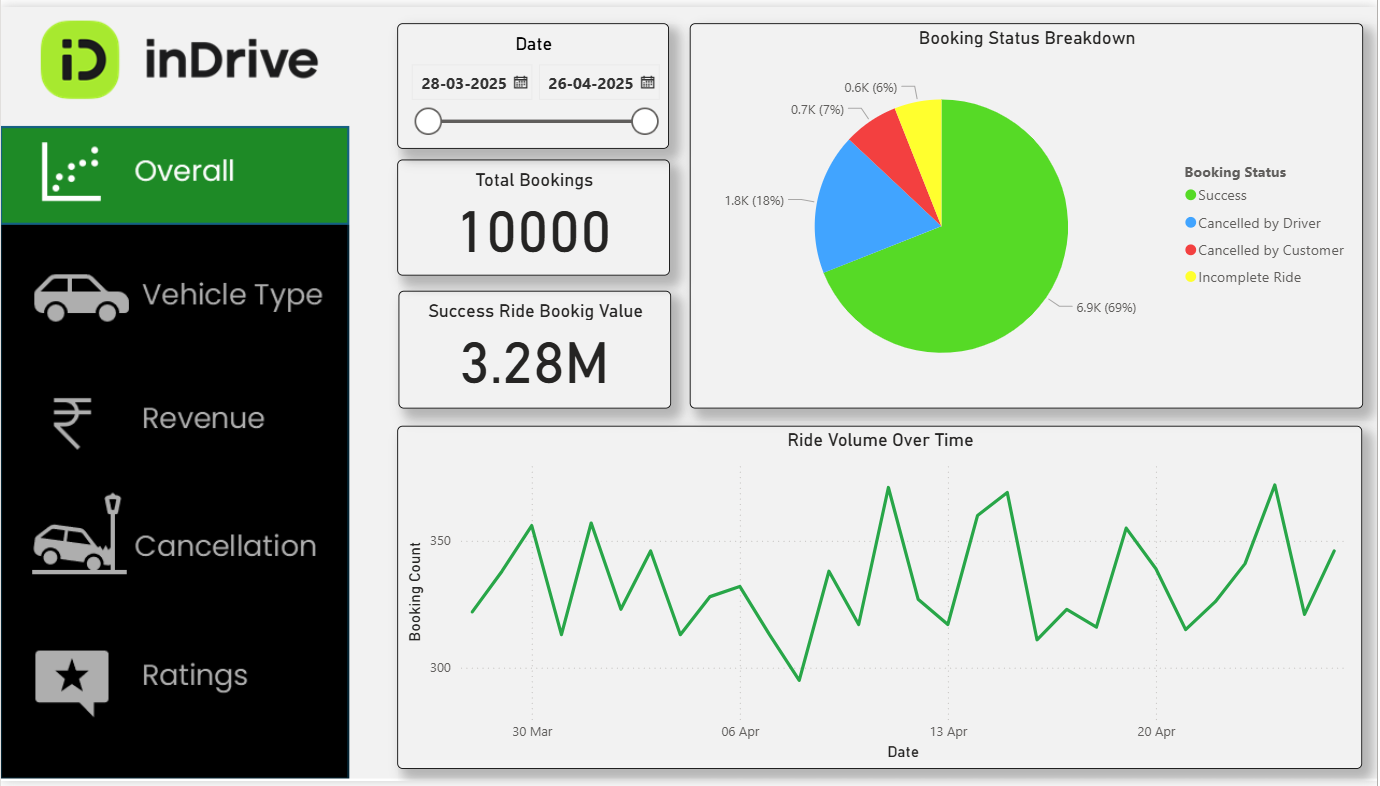

Layout of this report page (visuals, bound fields, positions):
{"tool":"powerbi","page":{"name":" Overall","canvas":[1280,720],"ordinal":0},"visuals":[{"type":"actionButton","box":[0,223.5,323.5,92.9],"z":0},{"type":"actionButton","box":[0,342.4,323.5,92.9],"z":1000},{"type":"actionButton","box":[0,455.3,323.5,92.9],"z":2000},{"type":"actionButton","box":[0,577.6,323.5,92.9],"z":3000},{"type":"actionButton","box":[0,110.6,323.5,92.9],"z":4000},{"type":"lineChart","title":" Ride Volume Over Time","fields":{"Y":["CountNonNull(Delhi_CAB_booking_data_final.Booking ID)"],"Category":["Delhi_CAB_booking_data_final.Date"]},"box":[369,389.3,897.6,319],"z":5000},{"type":"pieChart","title":" Booking Status Breakdown","fields":{"Y":["CountNonNull(Delhi_CAB_booking_data_final.Booking Status)"],"Category":["Delhi_CAB_booking_data_final.Booking Status"]},"box":[640.5,15.5,626.2,358.3],"z":6000},{"type":"slicer","title":"Date","fields":{"Values":["Delhi_CAB_booking_data_final.Date"]},"box":[368.5,15.6,252.7,116.9],"z":7000},{"type":"card","title":"Total Bookings","fields":{"Values":["CountNonNull(Delhi_CAB_booking_data_final.Booking Status)"]},"box":[369,141.7,253.6,108.3],"z":8000},{"type":"card","title":"Success Ride Bookig Value","fields":{"Values":["Sum(Delhi_CAB_booking_data_final.Booking Value)"]},"box":[370.2,264.3,253.6,109.5],"z":9000}]}

Visuals, with their boxes in screenshot pixels (x1, y1, x2, y2), scaled from the page's 1280x720 canvas onto the 1380x786 screenshot:
actionButton: [left=0, top=244, right=349, bottom=345]
actionButton: [left=0, top=374, right=349, bottom=475]
actionButton: [left=0, top=497, right=349, bottom=598]
actionButton: [left=0, top=631, right=349, bottom=732]
actionButton: [left=0, top=121, right=349, bottom=222]
" Ride Volume Over Time" lineChart: [left=398, top=425, right=1366, bottom=773]
" Booking Status Breakdown" pieChart: [left=691, top=17, right=1366, bottom=408]
"Date" slicer: [left=397, top=17, right=670, bottom=145]
"Total Bookings" card: [left=398, top=155, right=671, bottom=273]
"Success Ride Bookig Value" card: [left=399, top=289, right=673, bottom=408]
